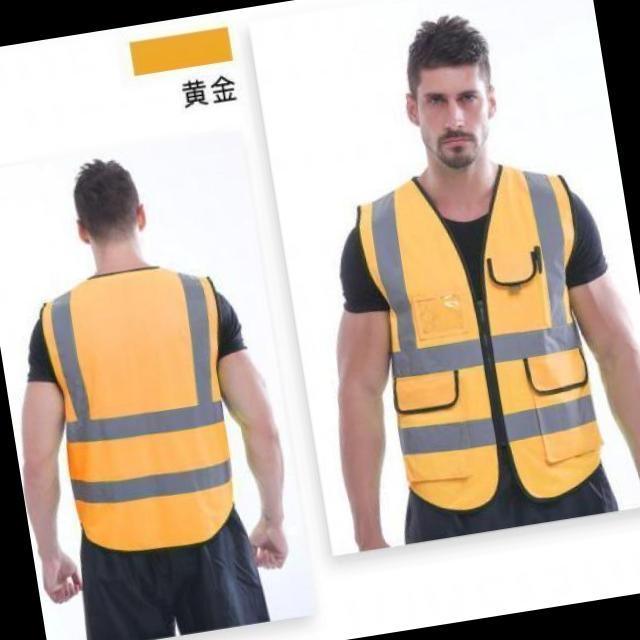no-gloves: (285, 328, 439, 574), (203, 372, 324, 570), (14, 421, 121, 614), (562, 313, 640, 526)
no-helmet: (371, 0, 538, 223), (43, 126, 182, 302)
vest: (343, 146, 620, 526), (21, 254, 254, 563)
